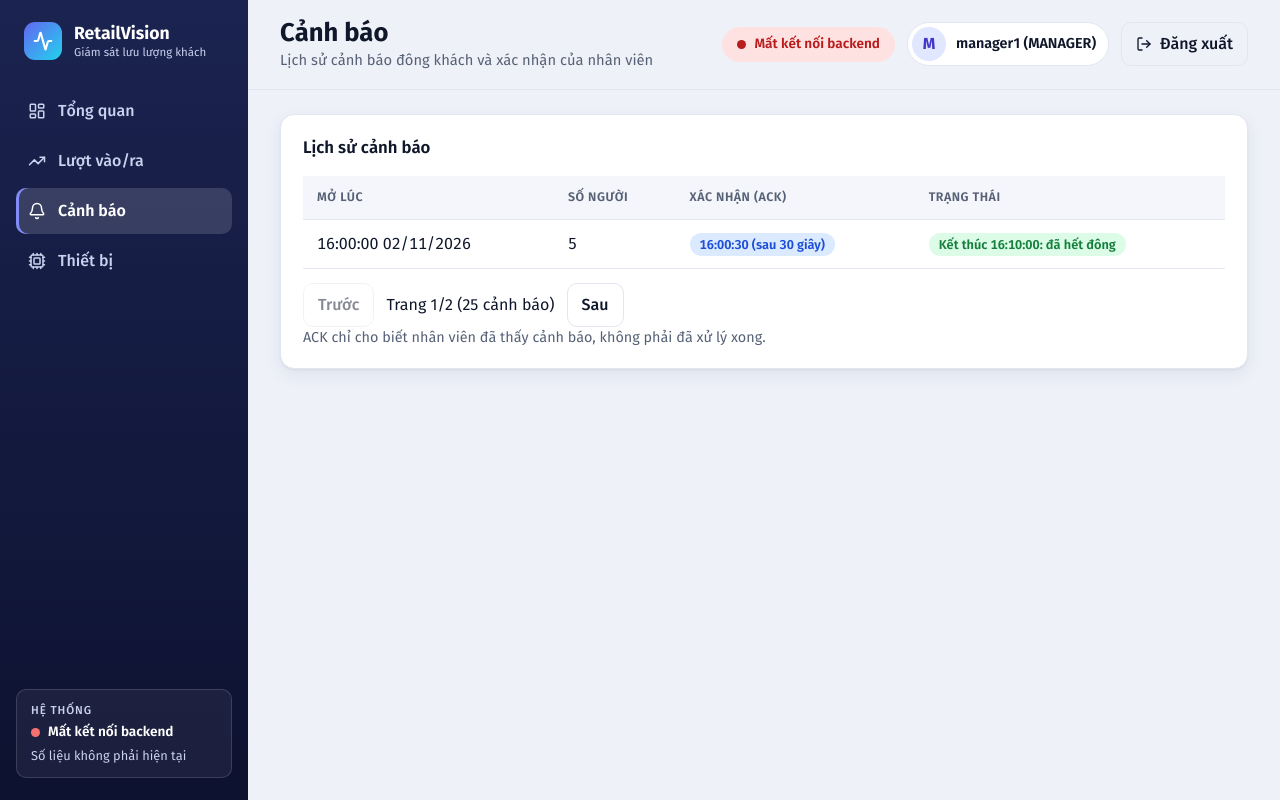
Test case: trang Cảnh báo › phân trang: bấm Sau gọi page=1, Trước bị khóa ở trang đầu
Expected: the text "Trang 1/2 (25 cảnh báo)" is shown, [386, 293, 555, 317]
Expected: the button "Trước" is disabled, [303, 283, 374, 327]
Click the button "Sau".
click(595, 305)  # box [567, 283, 624, 327]
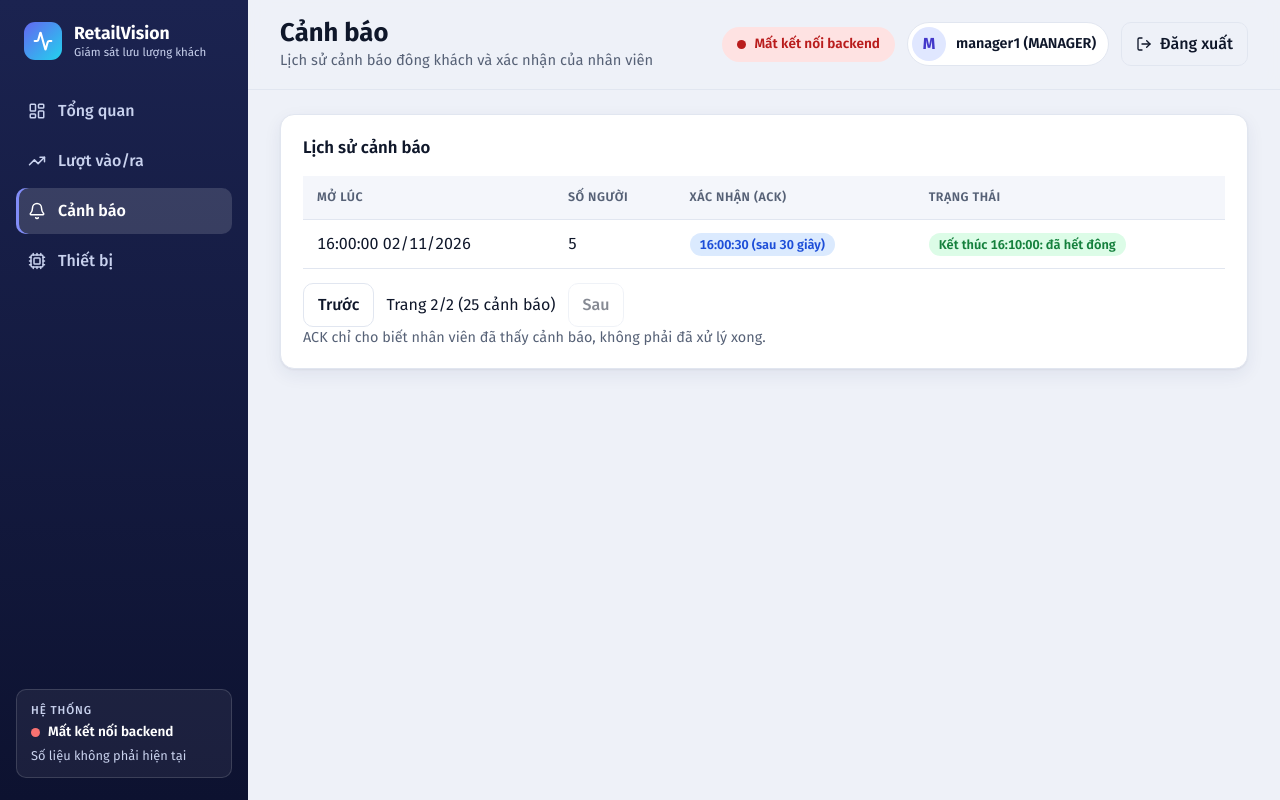
Result: the text "Trang 2/2 (25 cảnh báo)" is shown at [386, 293, 556, 317]
Result: the button "Sau" is disabled at [568, 283, 624, 327]
